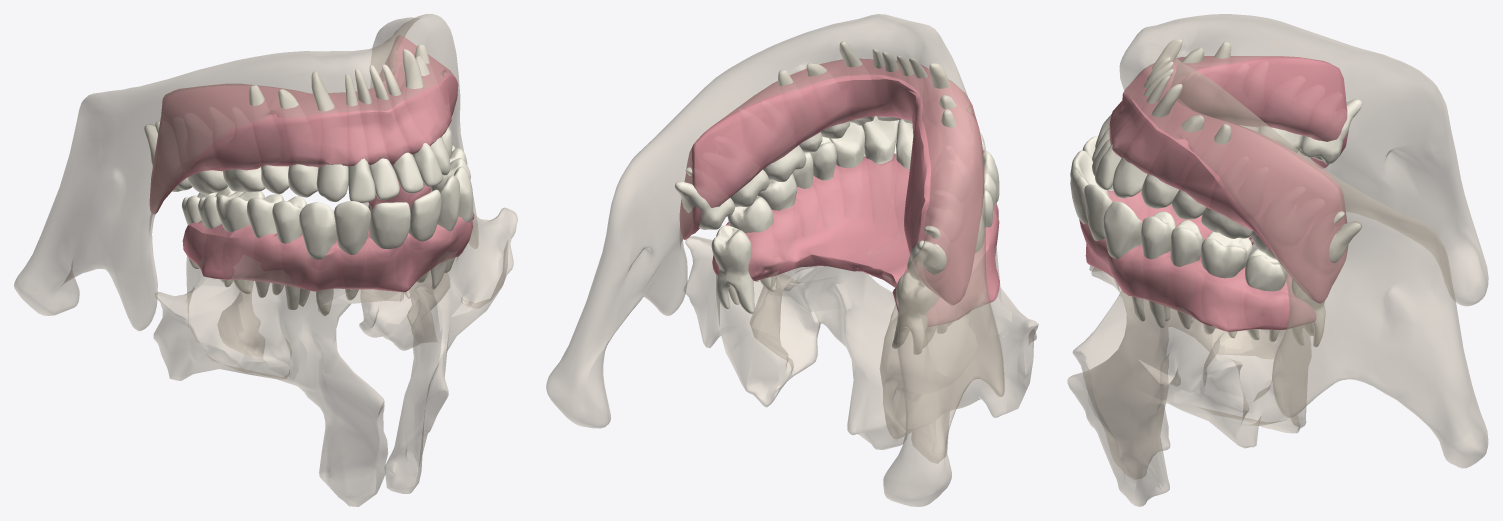
File: jaw.glb
3 views of the same model, side by side, from view 1: azimuth 30°, elevation 25°; view 2: azimuth 150°, elevation 25°; view 3: azimuth 270°, elevation 25° (orthographic). The views are drawn at different scales.
Parts seen in each view (by area): view 1: mandible, left_maxilla, lower_gingiva, right_maxilla, upper_gingiva, tooth_23, tooth_22, tooth_21, tooth_24, tooth_33, tooth_26, tooth_25 (+14 smaller); view 2: mandible, lower_gingiva, right_maxilla, upper_gingiva, left_maxilla, tooth_18_synthetic_third_molar, tooth_28_synthetic_third_molar, tooth_48_synthetic_third_molar, tooth_17, tooth_12, tooth_38_synthetic_third_molar, tooth_13 (+6 smaller); view 3: mandible, lower_gingiva, right_maxilla, left_maxilla, upper_gingiva, tooth_16, tooth_13, tooth_14, tooth_17, tooth_43, tooth_15, tooth_38_synthetic_third_molar (+10 smaller).
Part boxes in pixels (left/top/right/bottom): mandible: left=14, top=14, right=478, bottom=331; left_maxilla: left=153, top=254, right=404, bottom=506; lower_gingiva: left=149, top=35, right=458, bottom=214; right_maxilla: left=359, top=207, right=517, bottom=493; upper_gingiva: left=182, top=177, right=474, bottom=292; tooth_23: left=299, top=202, right=336, bottom=316; tooth_22: left=334, top=201, right=370, bottom=299; tooth_21: left=369, top=202, right=410, bottom=249; tooth_24: left=272, top=196, right=309, bottom=309; tooth_33: left=311, top=71, right=348, bottom=201; tooth_26: left=216, top=191, right=264, bottom=293; tooth_25: left=246, top=194, right=284, bottom=297; mandible: left=546, top=14, right=1004, bottom=506; lower_gingiva: left=679, top=59, right=984, bottom=304; right_maxilla: left=684, top=236, right=906, bottom=449; upper_gingiva: left=712, top=153, right=999, bottom=326; left_maxilla: left=871, top=245, right=1038, bottom=463; tooth_18_synthetic_third_molar: left=711, top=225, right=754, bottom=313; tooth_28_synthetic_third_molar: left=892, top=272, right=938, bottom=354; tooth_48_synthetic_third_molar: left=675, top=167, right=734, bottom=229; tooth_17: left=727, top=195, right=776, bottom=291; tooth_12: left=862, top=116, right=897, bottom=164; tooth_38_synthetic_third_molar: left=907, top=225, right=946, bottom=282; tooth_13: left=829, top=122, right=864, bottom=167; mandible: left=1119, top=14, right=1488, bottom=468; lower_gingiva: left=1109, top=56, right=1348, bottom=303; right_maxilla: left=1067, top=267, right=1311, bottom=506; left_maxilla: left=1072, top=239, right=1285, bottom=479; upper_gingiva: left=1079, top=190, right=1316, bottom=331; tooth_16: left=1201, top=231, right=1252, bottom=338; tooth_13: left=1103, top=201, right=1144, bottom=321; tooth_14: left=1141, top=211, right=1175, bottom=327; tooth_17: left=1245, top=248, right=1286, bottom=341; tooth_43: left=1113, top=84, right=1182, bottom=198; tooth_15: left=1170, top=220, right=1203, bottom=329; tooth_38_synthetic_third_molar: left=1298, top=99, right=1362, bottom=164.
Size of the model in its own units: 4.95 by 5.2 by 4.38.
